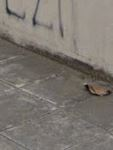trash: (78, 81, 113, 100)
